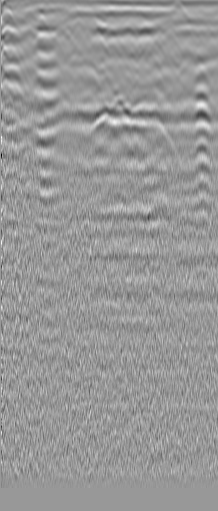오수: (33, 11, 53, 31)
우수: (160, 29, 180, 49)
